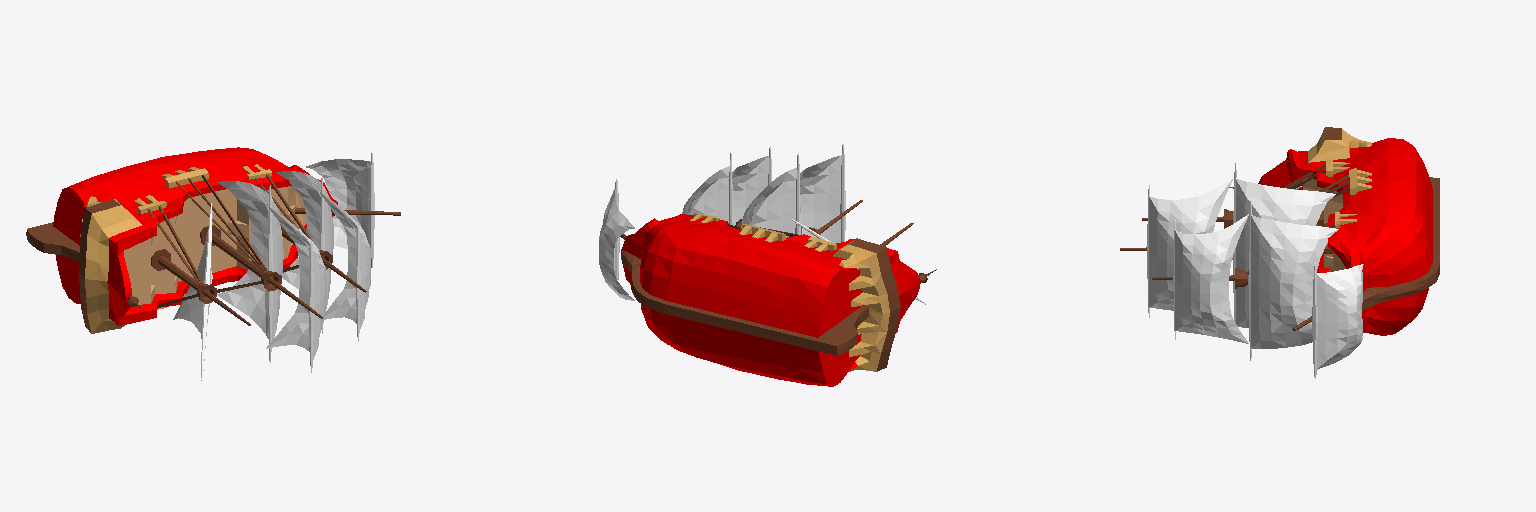
Rendered from eship.obj.
3 views of the same model, side by side, from view 1: azimuth 30°, elevation 25°; view 2: azimuth 150°, elevation 25°; view 3: azimuth 270°, elevation 25° (orthographic).
Parts seen in each view (by area): view 1: objhull, objdeck, objsail2, objsail1, objaft, objsail6, objsail4, objsail5, objmast2, objmast3, objsail3, objkeel (+3 smaller); view 2: objhull, objkeel, objaft, objsail1, objsail2, objsail6, objsail5, objsail4, objwindows, objrig; view 3: objhull, objsail5, objsail4, objsail1, objsail6, objsail2, objkeel, objaft, objrig, objdeck.
Part boxes in pixels (x1,y1,x2,y2): objhull: (53,147,337,325); objdeck: (124,186,305,304); objsail2: (217,181,283,362); objsail1: (266,204,326,372); objaft: (80,196,141,333); objsail6: (306,153,374,267); objsail4: (319,191,370,341); objsail5: (276,171,333,333); objmast2: (176,175,322,318); objmast3: (147,206,250,325); objsail3: (173,203,212,380); objkeel: (26,222,79,261); objhull: (621,214,920,386); objkeel: (621,250,868,355); objaft: (833,238,889,371); objsail1: (800,144,845,242); objsail2: (741,152,800,237); objsail6: (599,179,634,300); objsail5: (682,153,732,224); objsail4: (732,146,771,225); objwindows: (849,238,900,371); objrig: (690,213,836,251); objhull: (1258,138,1432,335); objsail5: (1248,201,1338,360); objsail4: (1173,214,1248,343); objsail1: (1147,177,1233,317); objsail6: (1312,263,1363,378); objsail2: (1233,163,1335,327); objkeel: (1362,177,1439,310); objaft: (1308,128,1371,162); objrig: (1326,159,1371,228); objdeck: (1303,178,1345,271).
Size of the model in its own units: 80.69 by 45 by 73.54.